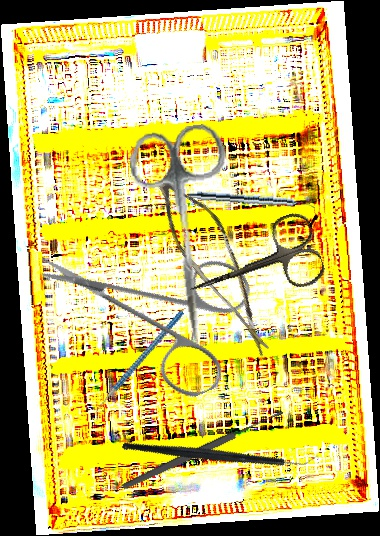Chopper: (121, 376, 320, 528), (69, 310, 209, 422)
Handpiece: (187, 190, 316, 211)
Iris Scissors: (37, 190, 282, 434), (126, 121, 248, 347), (177, 209, 329, 323)
Micro Scissor: (129, 169, 309, 360)
Surgical Spoon: (121, 408, 285, 492)
